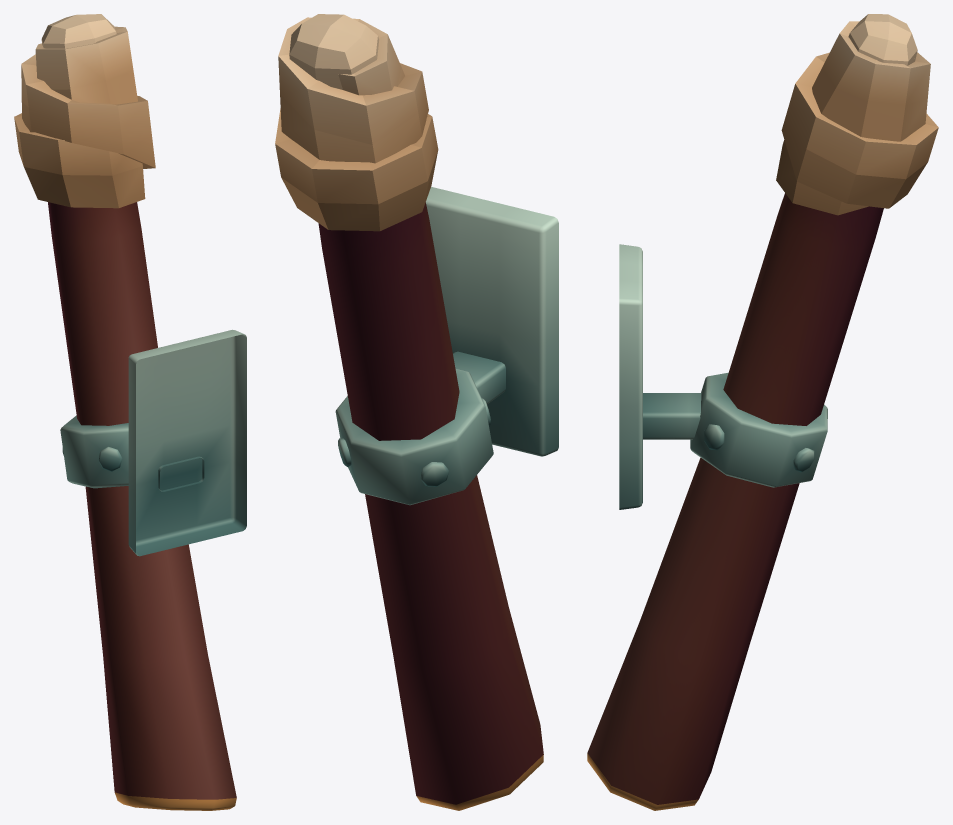
Rendered from SM_torch_002.fbx.
3 views of the same model, side by side, from view 1: azimuth 30°, elevation 25°; view 2: azimuth 150°, elevation 25°; view 3: azimuth 270°, elevation 25° (orthographic). The views are drawn at different scales.
Visible parts, largest first — view 1: SM_torch_002; view 2: SM_torch_002; view 3: SM_torch_002.
Part boxes in pixels (<box>): SM_torch_002: <box>14,14,246,810</box>; SM_torch_002: <box>275,14,558,810</box>; SM_torch_002: <box>587,14,938,810</box>.
Bounding box in the file's own units: 17.51 × 102 × 41.63.
